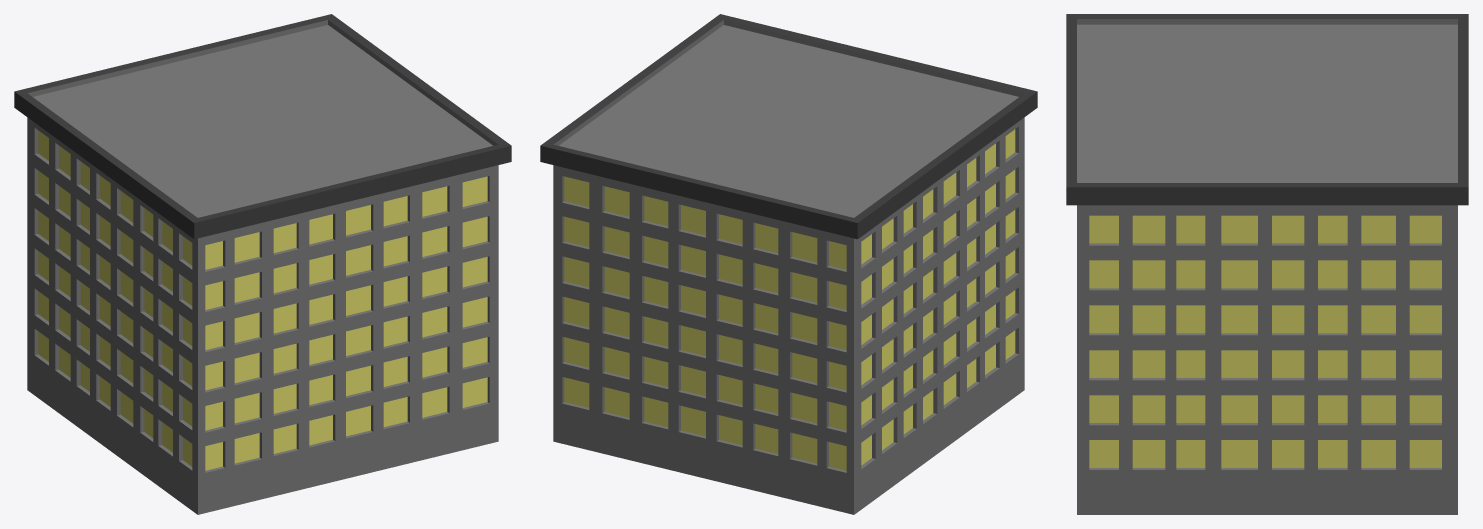
The model's file is city_house_3.fbx.
The picture shows the model from 3 angles, left to right: view 1: azimuth 30°, elevation 25°; view 2: azimuth 150°, elevation 25°; view 3: azimuth 270°, elevation 25°; orthographic projection. The views are drawn at different scales.
Parts seen in each view (by area): view 1: Cube; view 2: Cube; view 3: Cube.
Part boxes in pixels (box(x1,y1,x2,y2)): Cube: box(14, 14, 511, 514); Cube: box(540, 14, 1037, 514); Cube: box(1066, 14, 1468, 514).
Bounding box in the file's own units: 2480 × 2220 × 2435.
